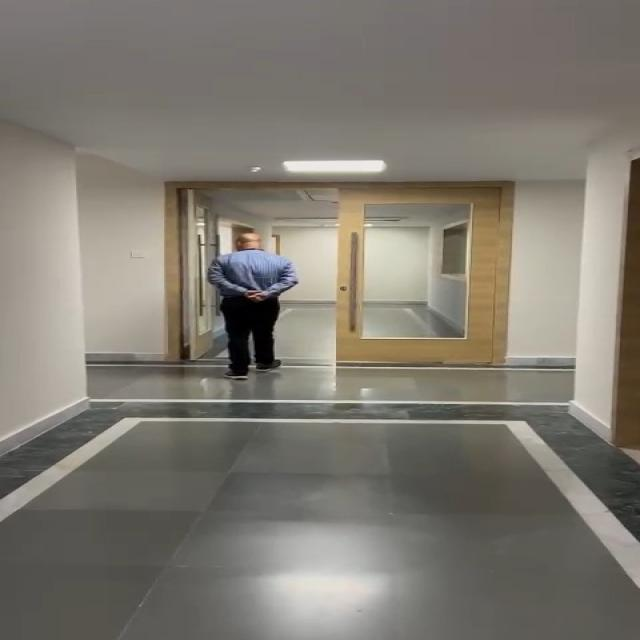door: (326, 163, 513, 362)
floor: (0, 436, 640, 640), (88, 376, 571, 438)
moving_object: (198, 210, 293, 377)
wall: (0, 115, 159, 365), (528, 154, 618, 366)
